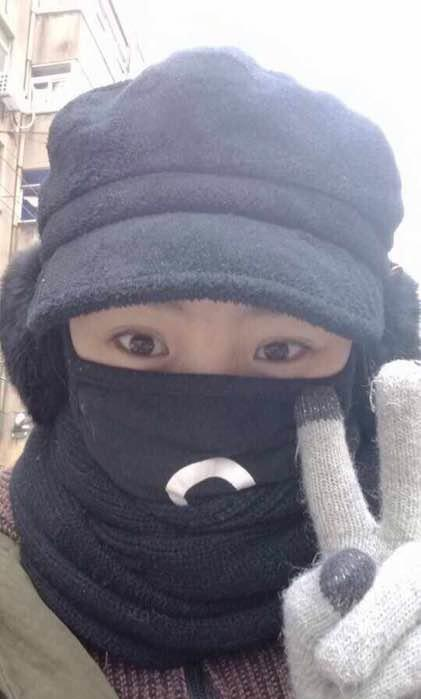OK: (67, 267, 334, 534)
